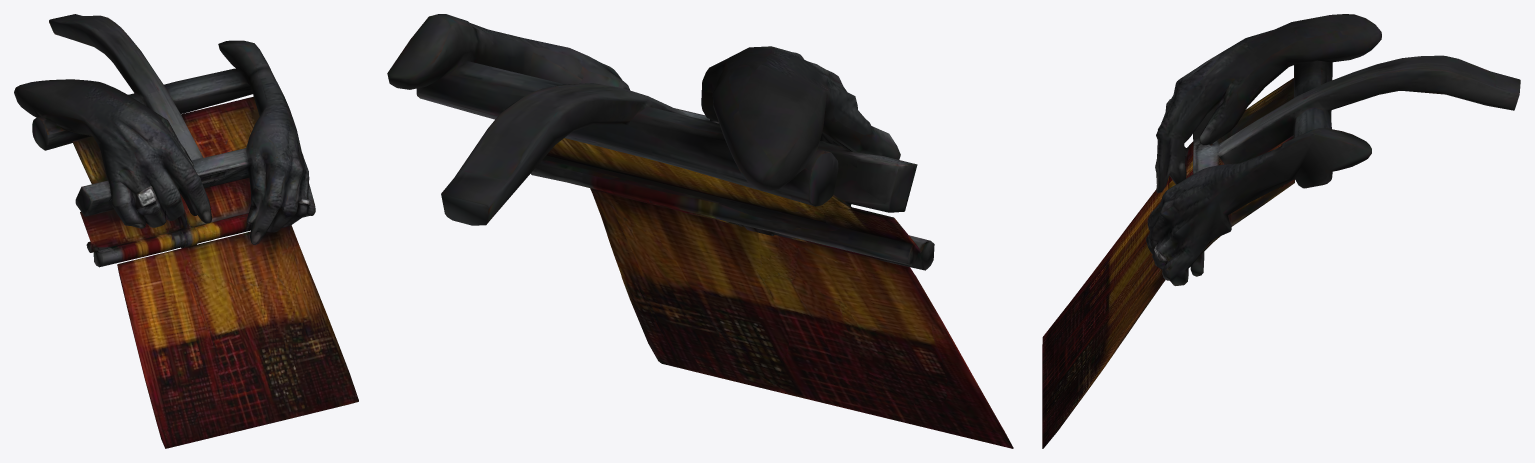
3 views of the same model, side by side, from view 1: azimuth 30°, elevation 25°; view 2: azimuth 150°, elevation 25°; view 3: azimuth 270°, elevation 25° (orthographic). The views are drawn at different scales.
Visible parts, largest first — view 1: node_0; view 2: node_0; view 3: node_0.
Boxes of the visible parts, x1,y1,x2,y2 form: node_0: (14,14,358,448); node_0: (387,14,1013,448); node_0: (1042,14,1520,448).
Bounding box in the file's own units: 0.5458 × 0.67 × 0.8729.
Materials: 1 (1 with a texture image).
